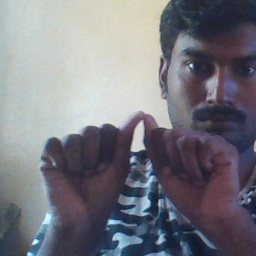A: (65, 104, 214, 217)
